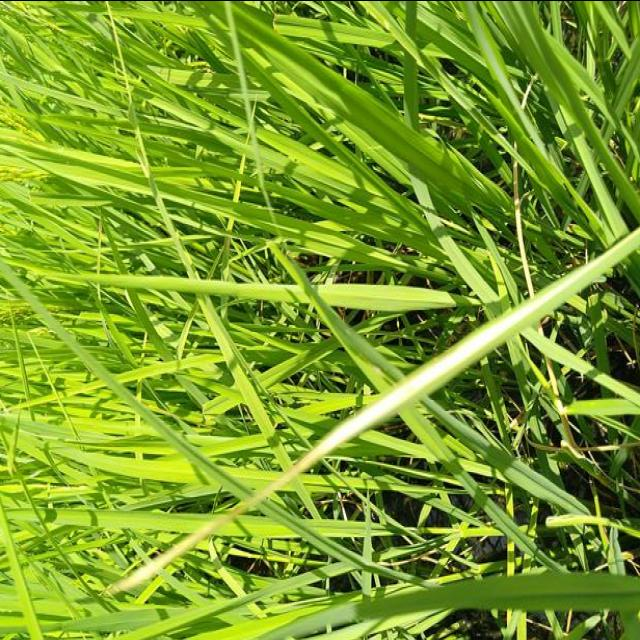Leaf Blight: (108, 224, 640, 592)
